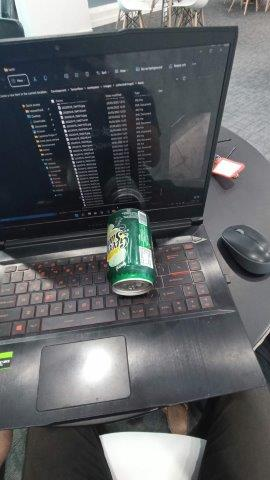kaleng: (107, 208, 156, 295)
